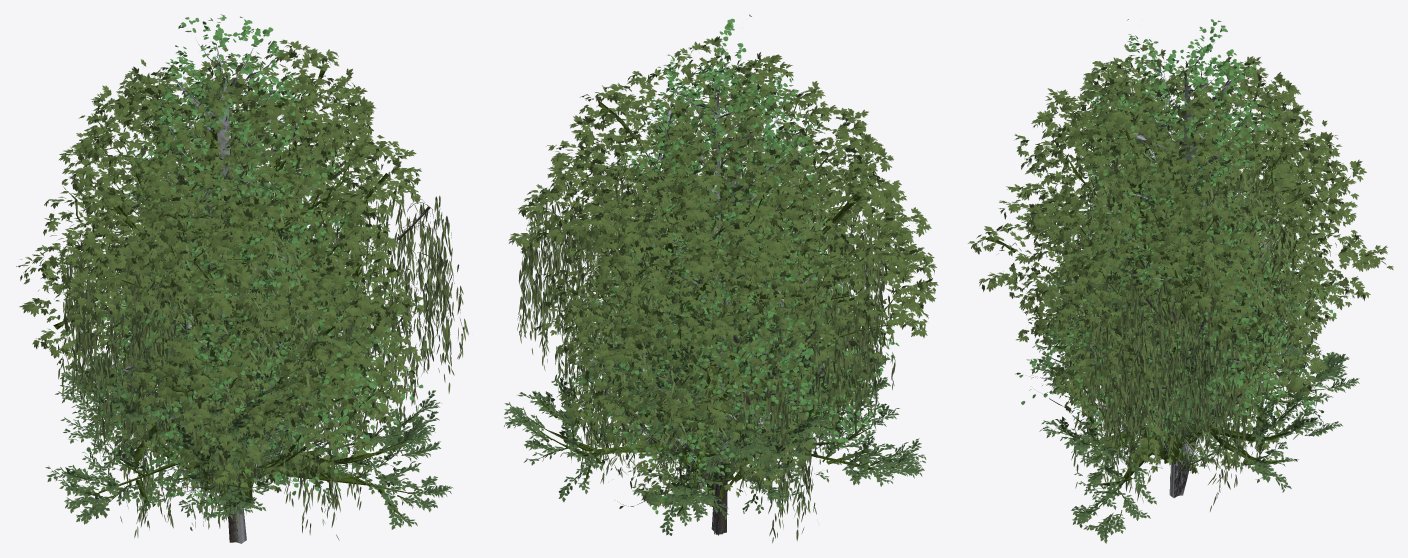
File: vegetation_02.glb
3 renders of one model, left to right at view 1: azimuth 30°, elevation 25°; view 2: azimuth 150°, elevation 25°; view 3: azimuth 270°, elevation 25°, orthographic. The views are drawn at different scales.
Visible parts, largest first — view 1: prototype_021, prototype_022, prototype_023, prototype_016, prototype_018, prototype_020, prototype_017; view 2: prototype_021, prototype_022, prototype_023, prototype_016, prototype_018, prototype_020, prototype_017, prototype_019; view 3: prototype_021, prototype_022, prototype_023, prototype_016, prototype_018, prototype_020, prototype_017.
Boxes of the visible parts, x1=… form: prototype_021: x1=16, y1=39, x2=433, y2=505; prototype_022: x1=76, y1=69, x2=425, y2=505; prototype_023: x1=58, y1=116, x2=468, y2=542; prototype_016: x1=45, y1=165, x2=453, y2=529; prototype_018: x1=106, y1=14, x2=380, y2=518; prototype_020: x1=56, y1=162, x2=423, y2=543; prototype_017: x1=165, y1=337, x2=303, y2=542; prototype_021: x1=508, y1=36, x2=938, y2=511; prototype_022: x1=570, y1=91, x2=874, y2=502; prototype_023: x1=517, y1=132, x2=895, y2=543; prototype_016: x1=504, y1=176, x2=926, y2=535; prototype_018: x1=590, y1=14, x2=854, y2=534; prototype_020: x1=557, y1=169, x2=898, y2=535; prototype_017: x1=640, y1=348, x2=780, y2=534; prototype_019: x1=668, y1=385, x2=776, y2=484; prototype_021: x1=968, y1=43, x2=1393, y2=473; prototype_022: x1=1015, y1=60, x2=1330, y2=456; prototype_023: x1=1054, y1=114, x2=1332, y2=511; prototype_016: x1=1026, y1=156, x2=1359, y2=543; prototype_018: x1=1042, y1=19, x2=1305, y2=495; prototype_020: x1=1015, y1=149, x2=1336, y2=497; prototype_017: x1=1124, y1=320, x2=1232, y2=470.
Bounding box in the file's own units: 18.8 × 22.49 × 18.25.
12 materials, 12 textured.
